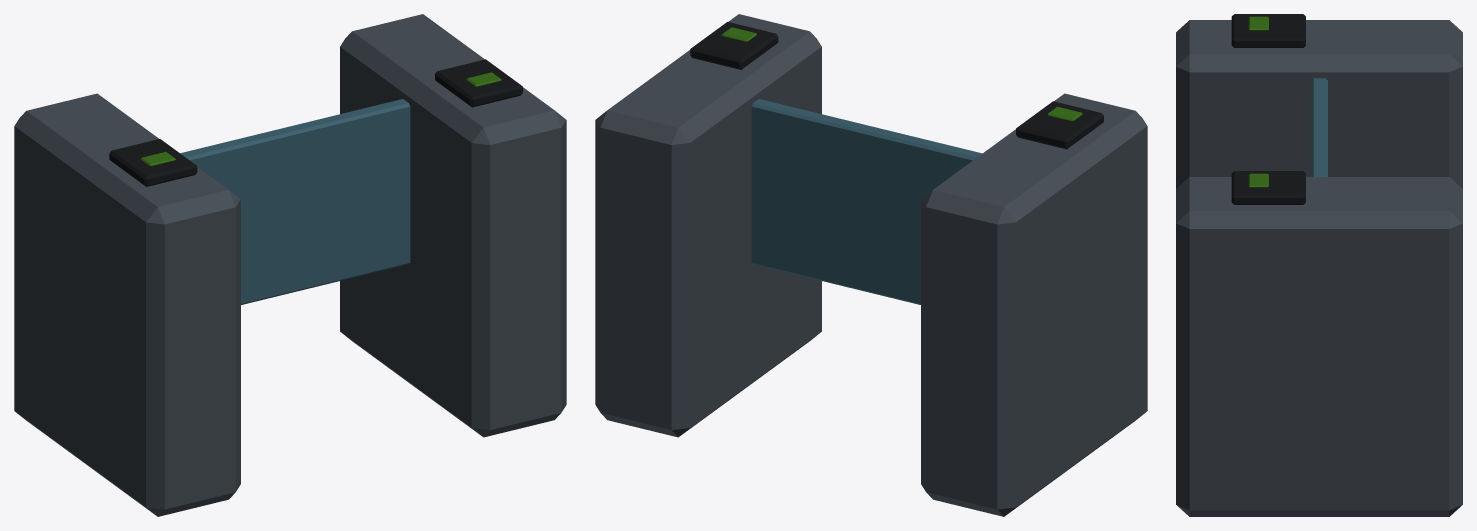
The model's file is SecuritySwingGate.fbx.
3 renders of one model, left to right at view 1: azimuth 30°, elevation 25°; view 2: azimuth 150°, elevation 25°; view 3: azimuth 270°, elevation 25°, orthographic.
Visible parts, largest first — view 1: SecuritySwingGate; view 2: SecuritySwingGate; view 3: SecuritySwingGate.
Boxes of the visible parts, box(x1,y1,x2,y2) form: SecuritySwingGate: box(14, 14, 566, 516); SecuritySwingGate: box(595, 14, 1147, 516); SecuritySwingGate: box(1176, 14, 1462, 516).
Size of the model in its own units: 142 by 105 by 85.
Materials: 1 (1 with a texture image).
